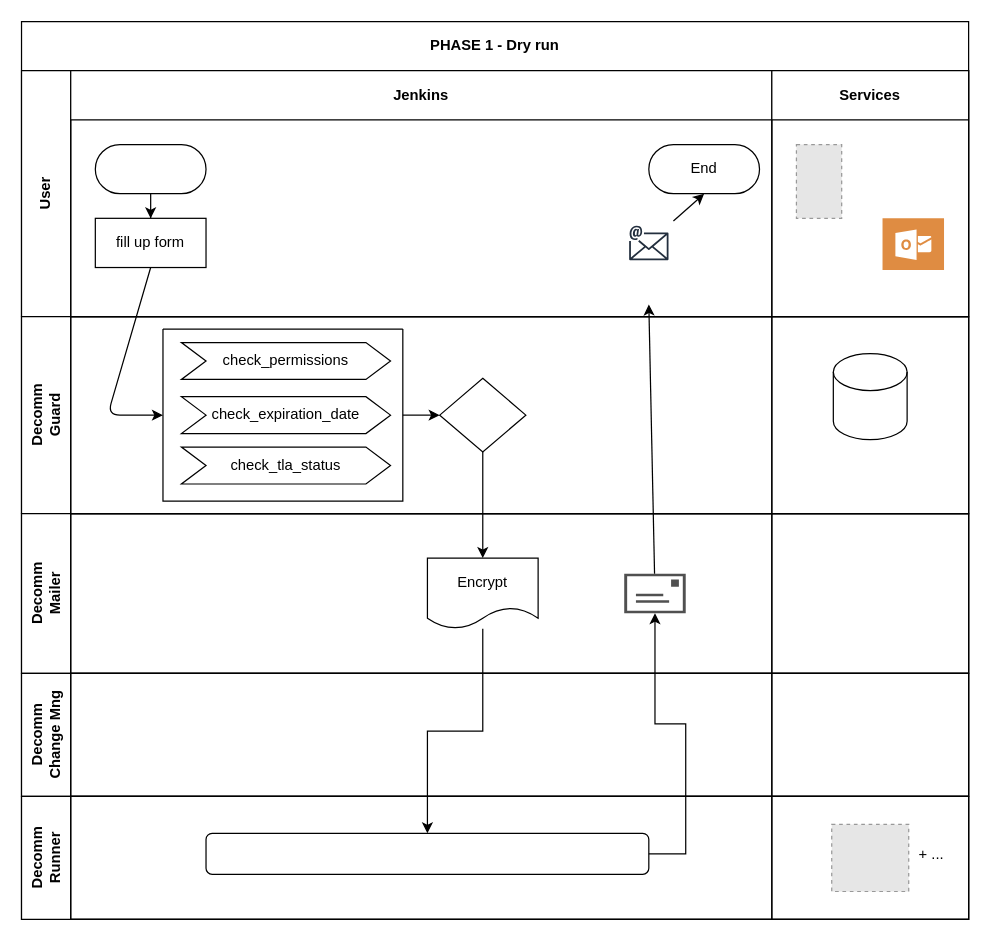
Some shapes in this 990 by 941 pixel diagram are drawn without their labels. Grey dashed boxes stand in for pictures. The shapes that lost their labels are listed below. From the top down, each one's centre as x and y in pixels, then its label:
[150,168]: Start
[648,242]: Email
[869,396]: CMDB
[427,853]: Get all assets to be removed (based on i2 config)
